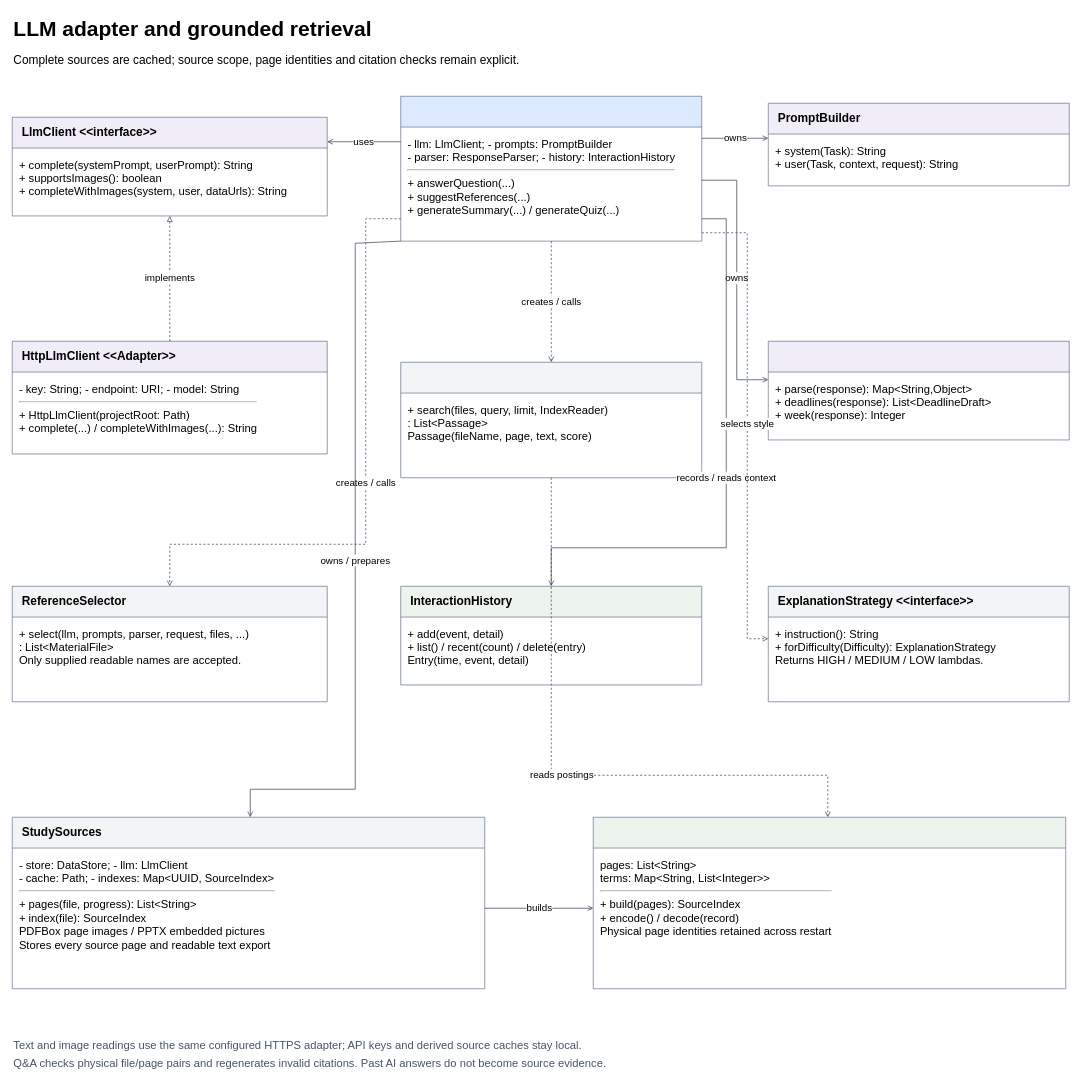
Some shapes in this 1085 by 1082 pixel diagram are drawn without their labels. Each missing label, with the box of its shape:
AgentController: (400, 96, 702, 241)
MaterialSearcher: (400, 362, 702, 478)
ResponseParser: (768, 341, 1069, 440)
SourceIndex <<record>>: (593, 817, 1066, 989)
